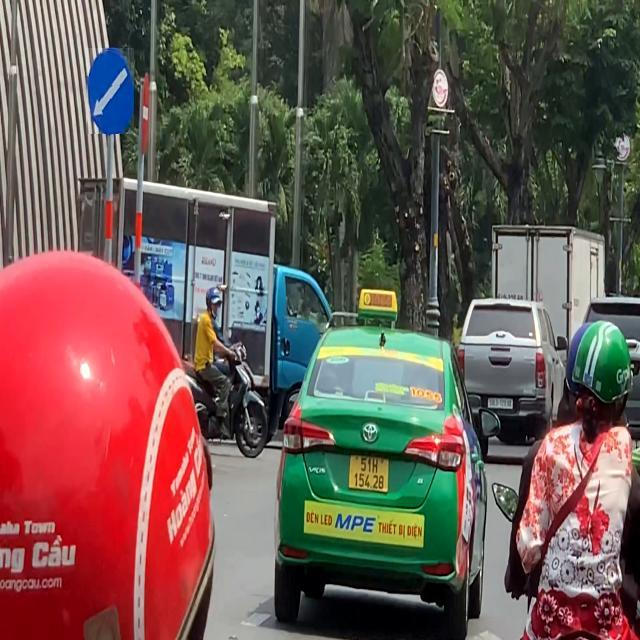R-302b: (86, 48, 134, 134)
